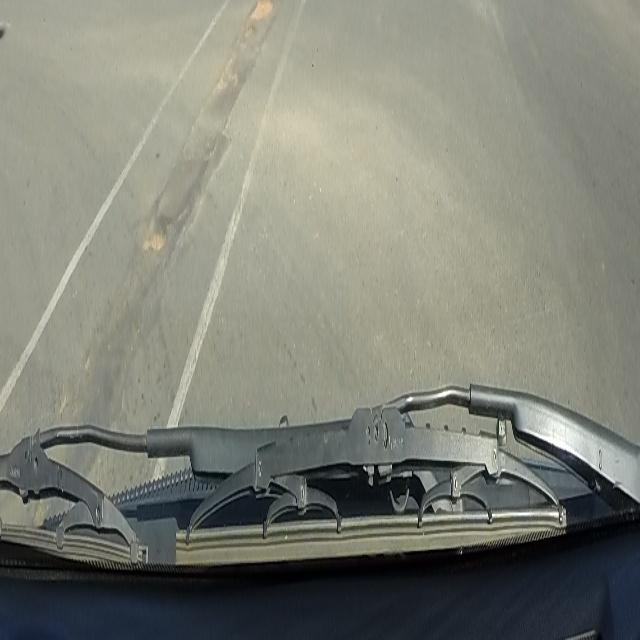pothole: (247, 0, 273, 27)
